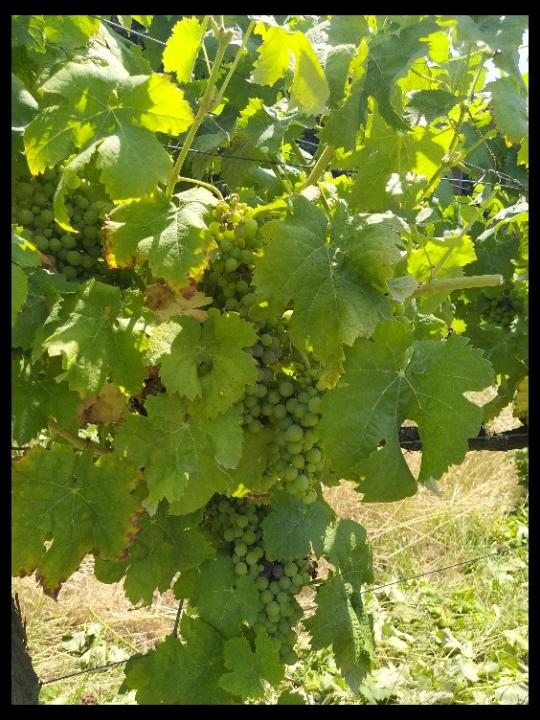grape: (206, 491, 317, 667), (198, 192, 294, 368), (12, 154, 114, 293), (259, 358, 331, 506)
